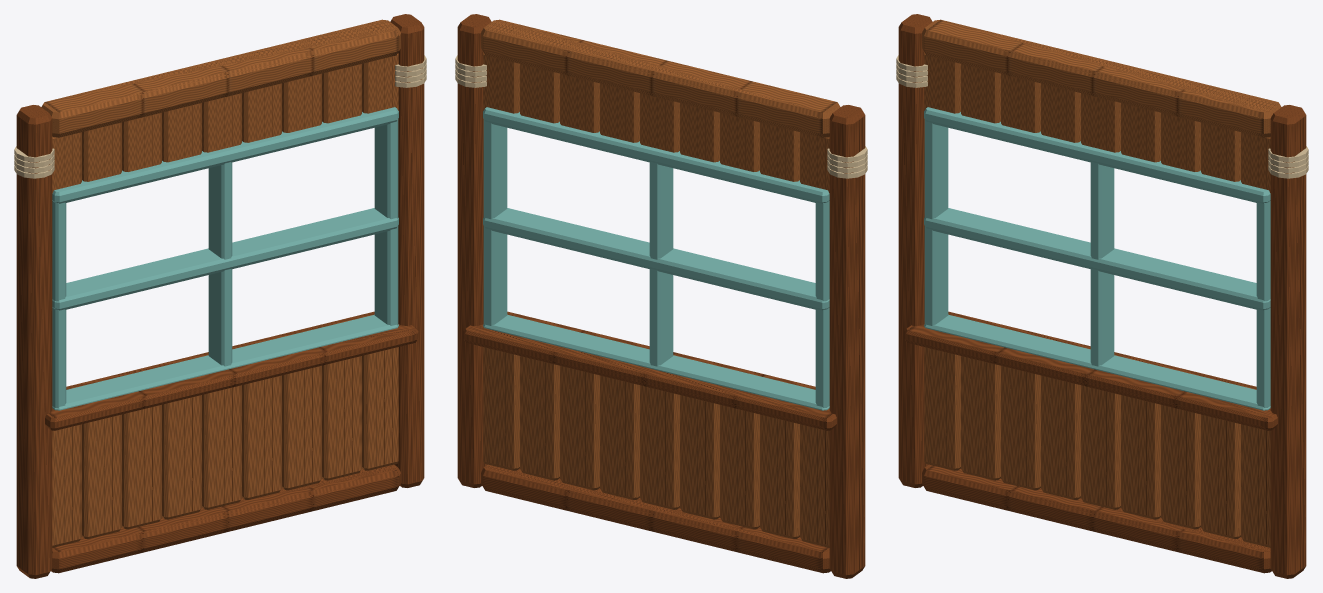
The model's file is ocean-raft-settlement-ocean-raft-settlement-cabin-wind-8364e479__28903.glb.
The picture shows the model from 3 angles, left to right: view 1: azimuth 30°, elevation 25°; view 2: azimuth 150°, elevation 25°; view 3: azimuth 330°, elevation 25°; orthographic projection.
Visible parts, largest first — view 1: pale, wood, teal, rope; view 2: pale, wood, teal, rope; view 3: pale, wood, teal, rope.
Part boxes in pixels (x1=…): pale: x1=41, y1=19, x2=400, y2=547; wood: x1=16, y1=14, x2=424, y2=578; teal: x1=52, y1=107, x2=398, y2=410; rope: x1=14, y1=55, x2=426, y2=178; pale: x1=481, y1=19, x2=840, y2=547; wood: x1=457, y1=14, x2=865, y2=578; teal: x1=483, y1=107, x2=829, y2=410; rope: x1=455, y1=55, x2=867, y2=178; pale: x1=922, y1=19, x2=1281, y2=547; wood: x1=898, y1=14, x2=1306, y2=578; teal: x1=924, y1=107, x2=1270, y2=410; rope: x1=896, y1=55, x2=1308, y2=178.
Bounding box in the file's own units: 2.03 × 2.2 × 0.2699.
Materials: 4 (2 with a texture image).
